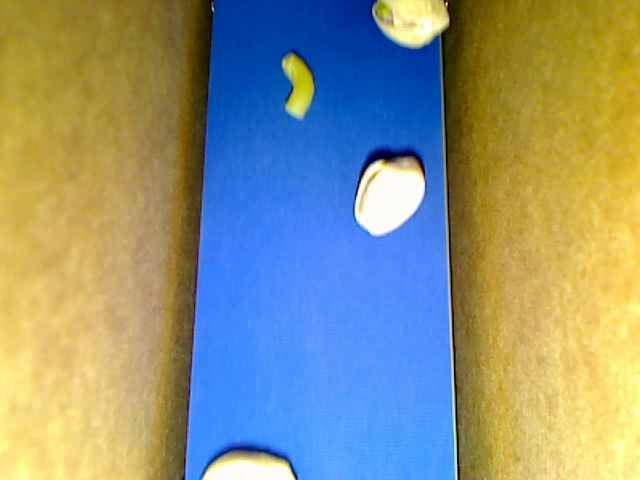elbow: (281, 51, 315, 118)
